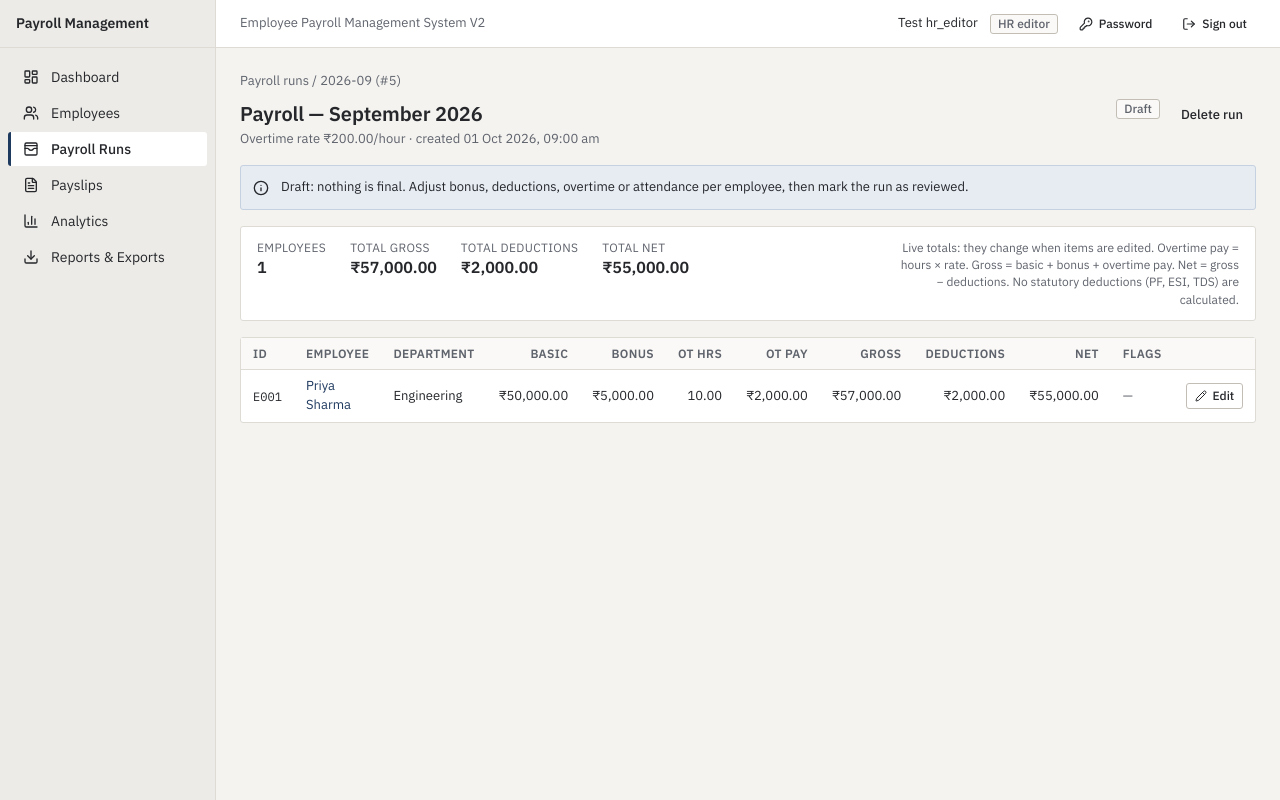
Draft run › editing an item sends only strings, shows the server-recalculated result after reload
The image size is (1280, 800).
Click the button with aria-label "Edit Priya Sharma" at coordinates (1214, 396), box [1186,383,1243,409]
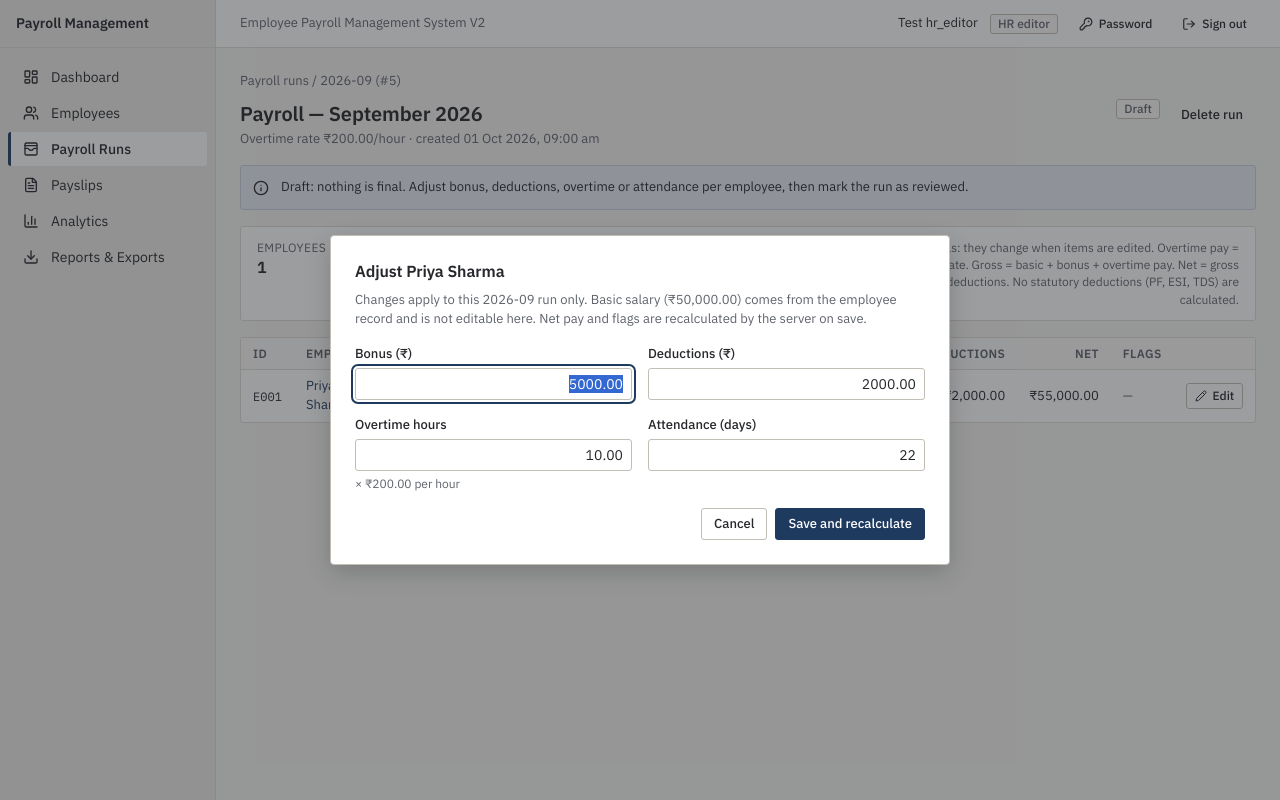
Replace the text in the field labelled "Deductions (₹)" with "90000" at coordinates (786, 384), box [648,368,925,400]
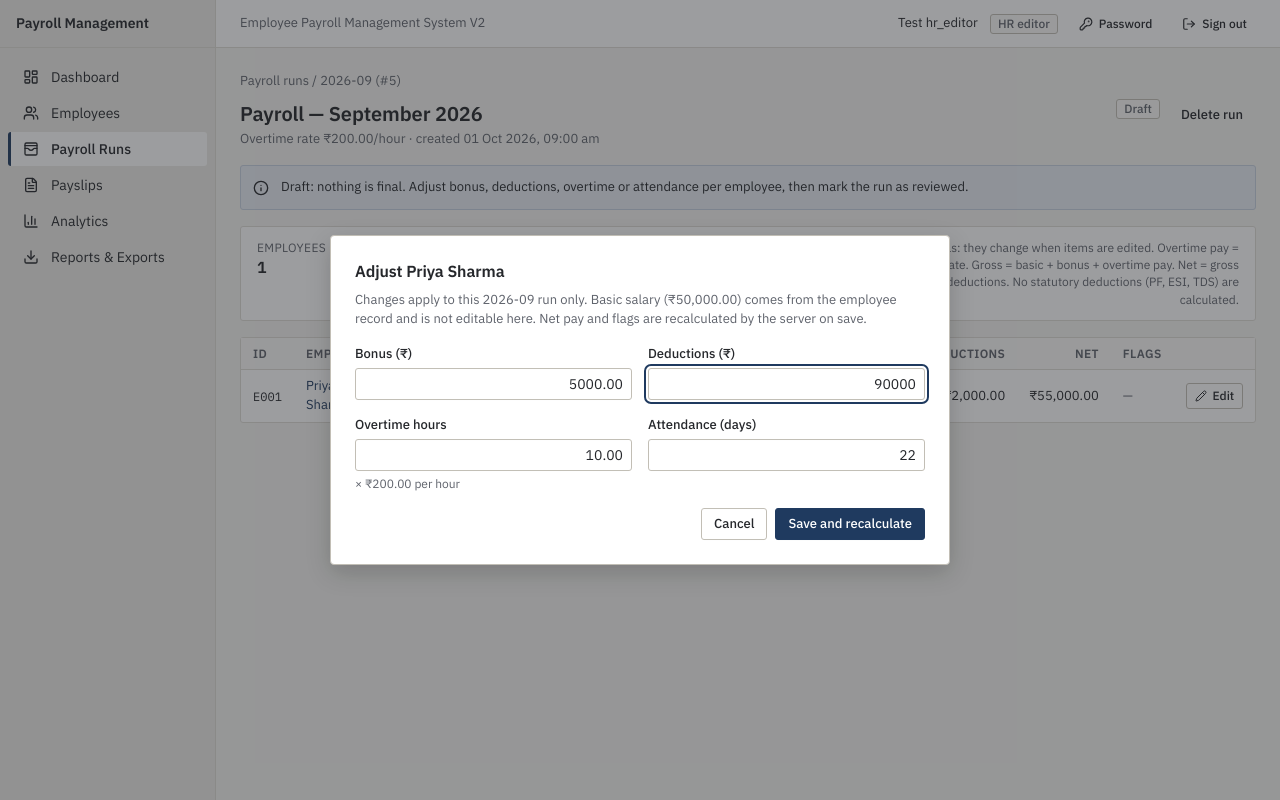
Click the button "Save and recalculate" at coordinates (850, 524), box [776,508,925,540]
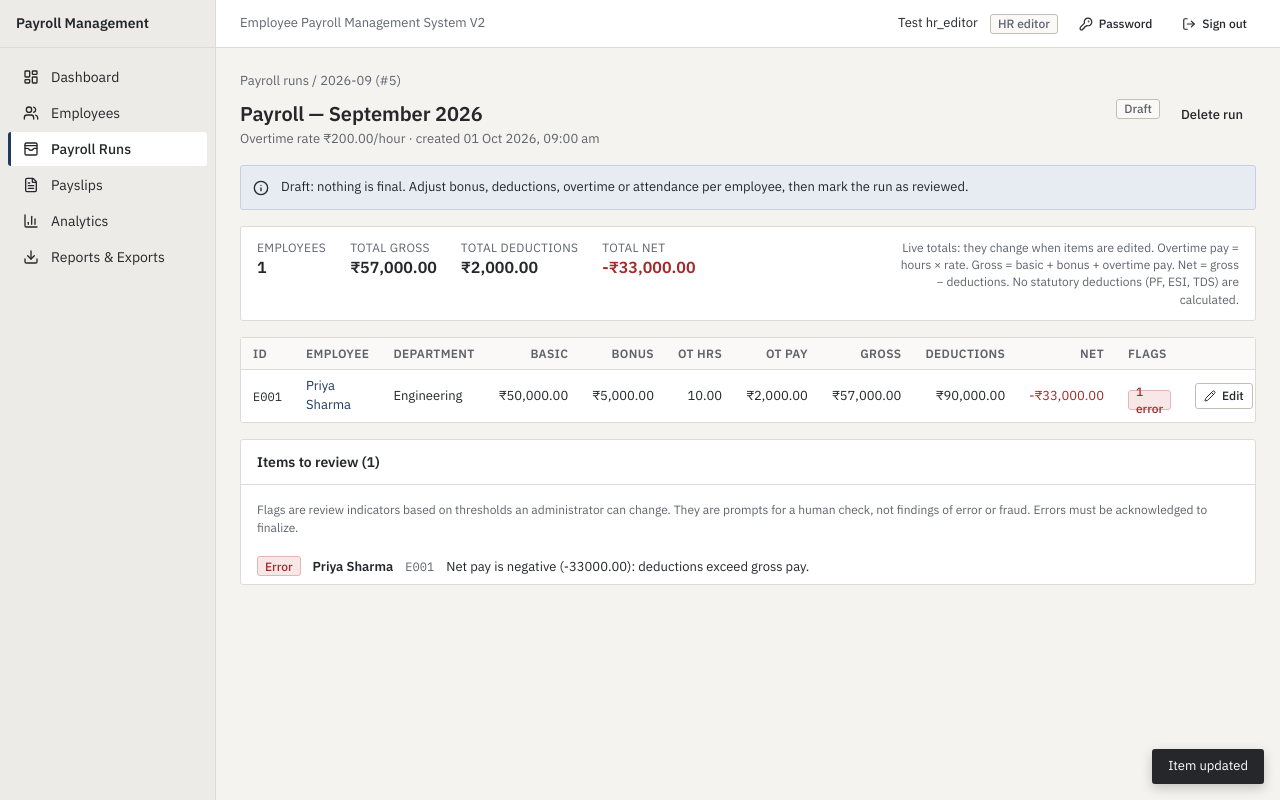
Now the text "-₹33,000.00" is shown, box [602,256,696,279]
Now the text "Net pay is negative" is shown, box [446,558,809,574]
